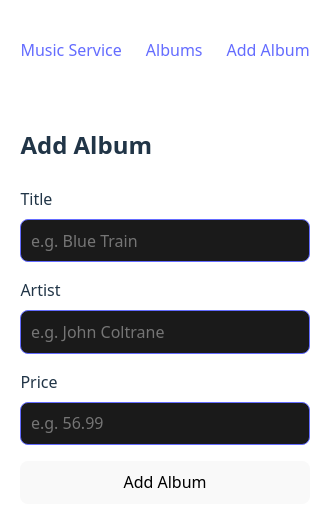
Add Album › submits album and shows success message
Type "Blue Train" into the field with id "title".
click(165, 241); type("Blue Train")  # box [20,219,309,262]
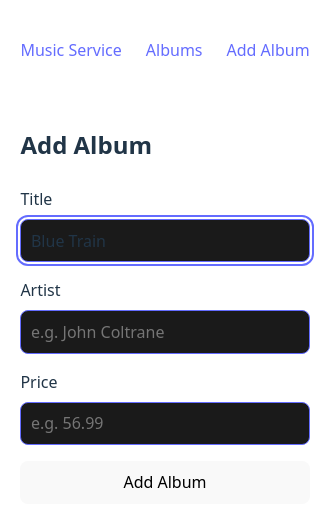
Type "John Coltrane" into the field with id "artist".
click(165, 332); type("John Coltrane")  # box [20,310,309,353]
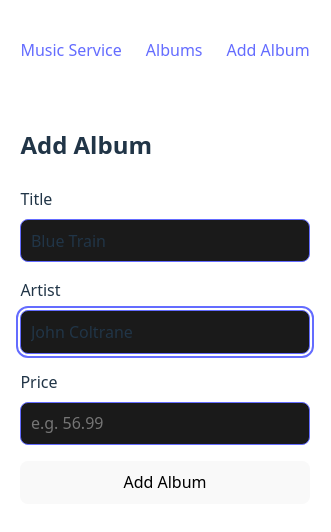
Type "56.99" into the number field labelled "Price".
click(165, 424); type("56.99")  # box [20,402,309,445]
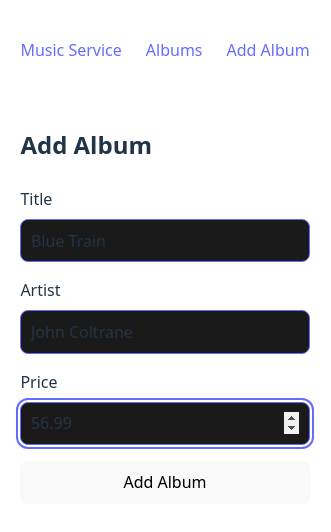
Click the button "Add Album".
click(165, 483)  # box [20,461,309,504]
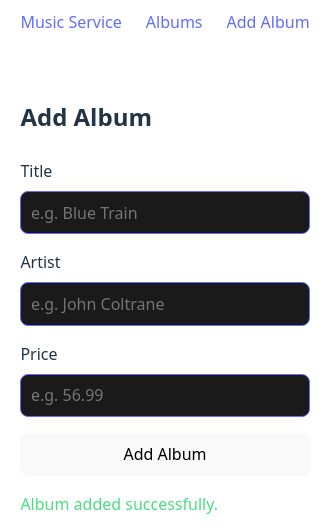
expect the text "Album added successfully" is shown: met, box [20,493,218,515]
